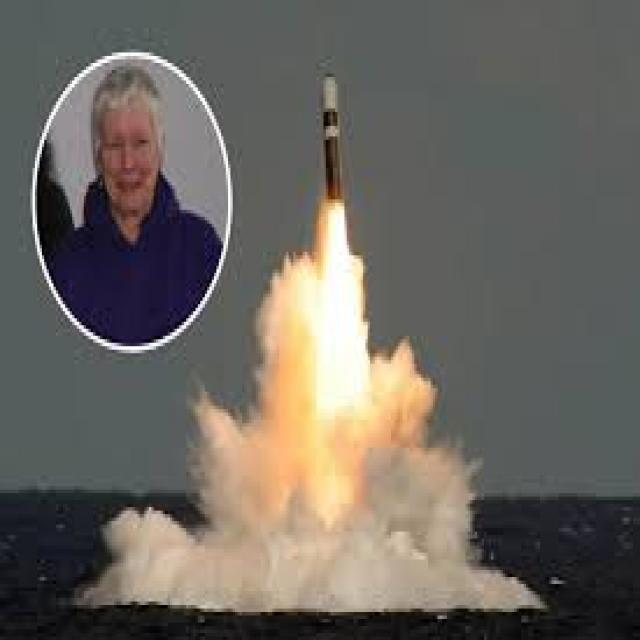missile: (318, 65, 345, 229)
